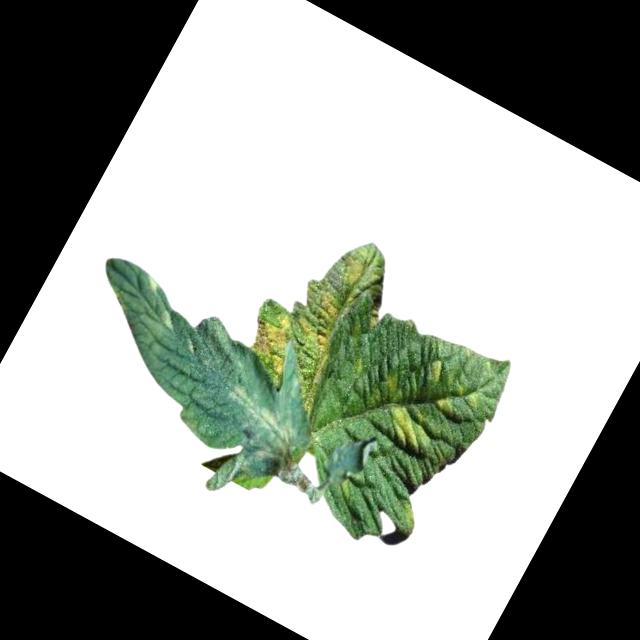Leaf_Mold: (205, 380, 316, 484), (293, 236, 381, 360), (239, 304, 309, 380), (377, 397, 438, 453), (435, 391, 463, 417)
